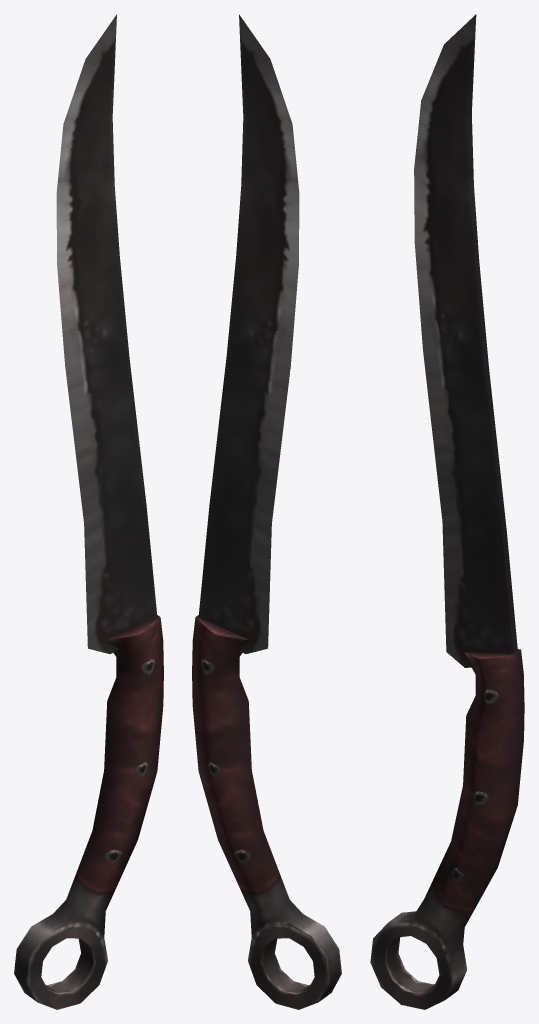
The model's file is 97_weapon.FBX.
3 renders of one model, left to right at view 1: azimuth 30°, elevation 25°; view 2: azimuth 150°, elevation 25°; view 3: azimuth 330°, elevation 25°, orthographic. The views are drawn at different scales.
Parts seen in each view (by area): view 1: 97_weapon; view 2: 97_weapon; view 3: 97_weapon.
Part boxes in pixels (bbox=[...]): 97_weapon: bbox=[14, 14, 163, 1009]; 97_weapon: bbox=[192, 14, 341, 1009]; 97_weapon: bbox=[370, 14, 524, 1009].
Bounding box in the file's own units: 314 × 2091 × 96.95.
